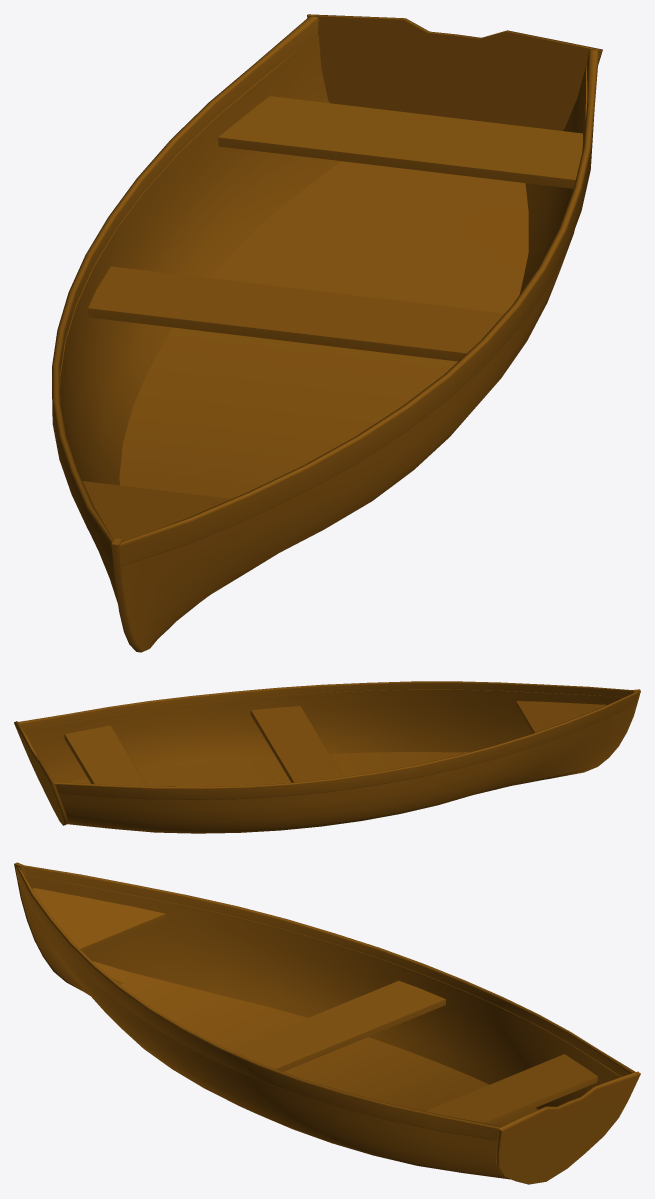
Rendered from perahu fix.fbx.
The picture shows the model from 3 angles, top to bottom: view 1: azimuth 30°, elevation 25°; view 2: azimuth 150°, elevation 25°; view 3: azimuth 270°, elevation 25°; orthographic projection. The views are drawn at different scales.
Visible parts, largest first — view 1: 9; view 2: 9; view 3: 9.
Part boxes in pixels (x1,y1,x2,y2): 9: (52, 14, 602, 652); 9: (14, 681, 640, 833); 9: (14, 862, 640, 1184).
Bounding box in the file's own units: 395 × 76.66 × 387.
